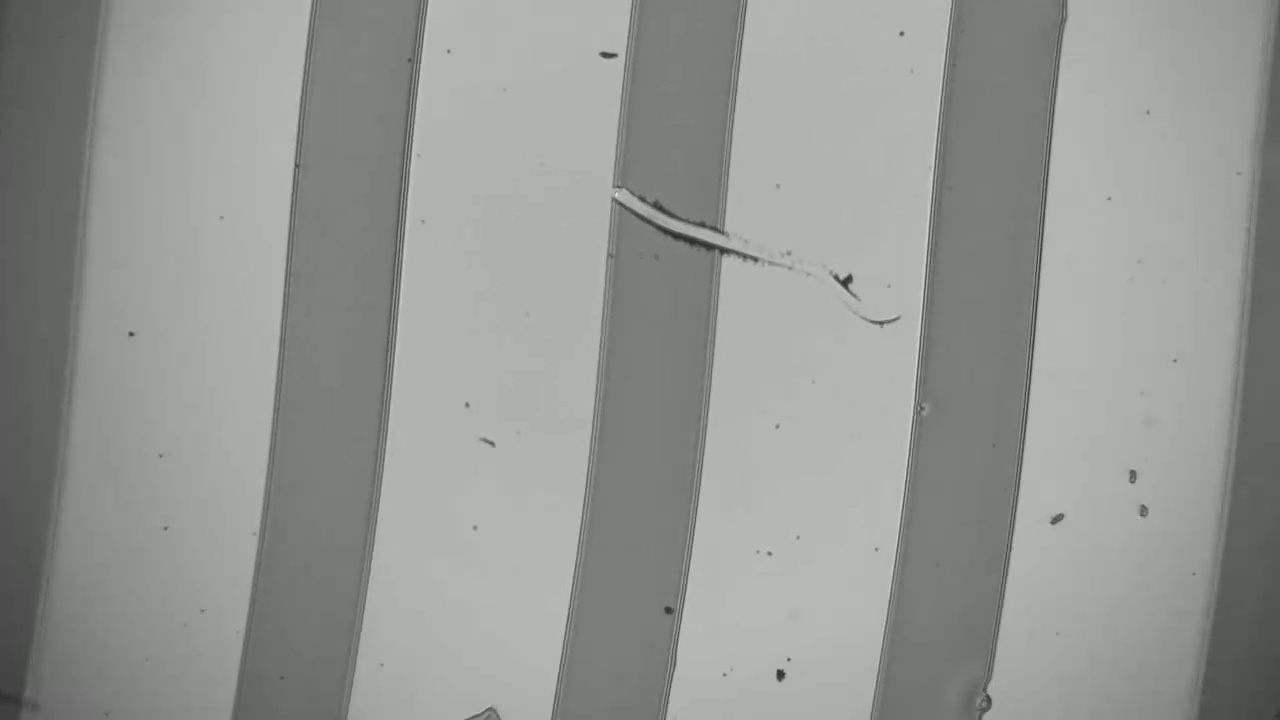Short_circuit: (576, 190, 745, 256)
